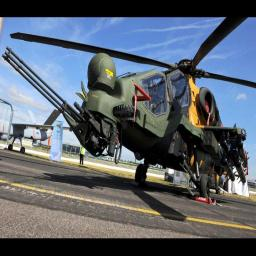helicopter: (12, 17, 256, 203)
